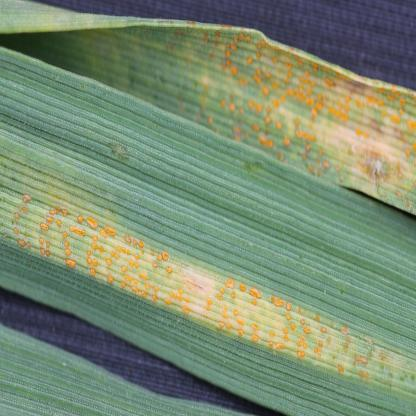Wheat-Yellow-rust: (11, 198, 344, 267), (101, 273, 366, 317), (216, 330, 408, 380), (210, 28, 258, 170), (347, 85, 408, 191), (280, 54, 302, 171), (305, 60, 323, 181), (260, 39, 273, 192), (327, 65, 342, 178), (411, 97, 415, 202)
